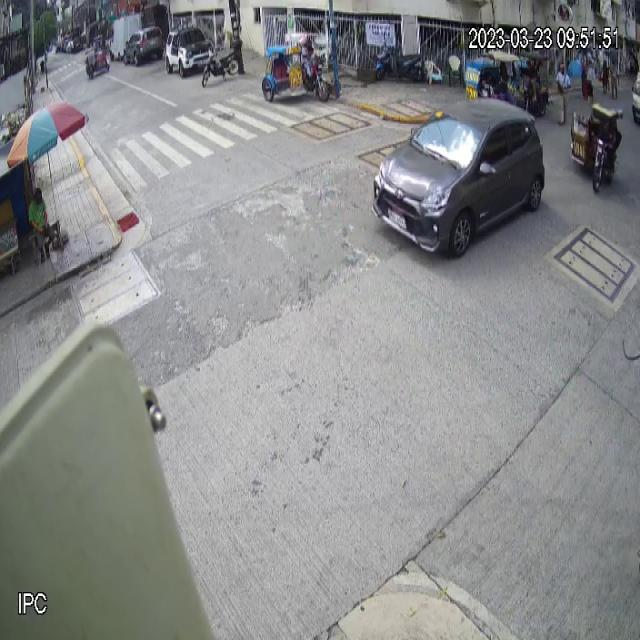Car: (372, 98, 546, 260)
Tricycle: (570, 98, 624, 194), (261, 32, 332, 104)
